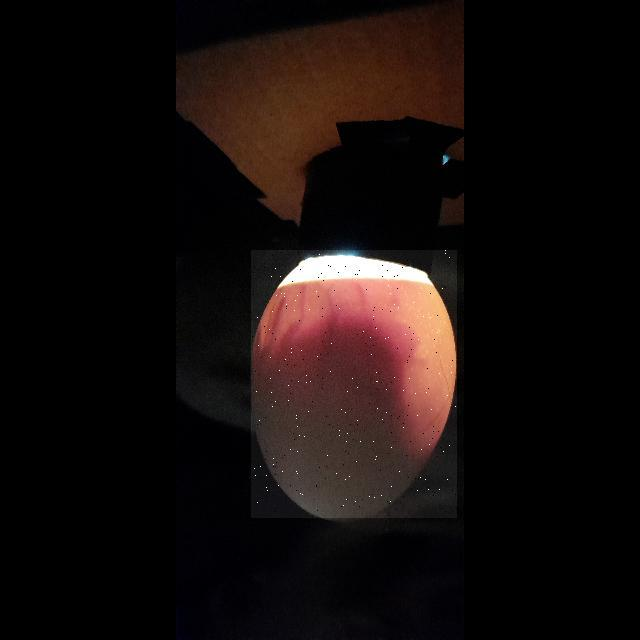Fertile: (251, 250, 457, 518)
